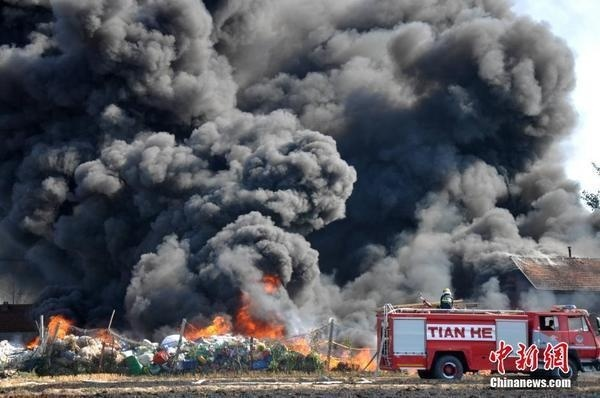fire: (183, 305, 380, 369), (182, 307, 305, 342), (40, 312, 73, 341)
